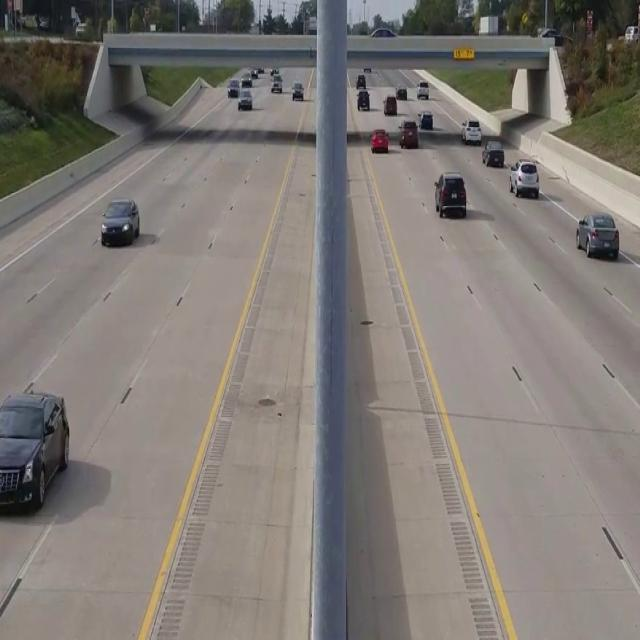car: (0, 387, 69, 513), (576, 212, 619, 260), (101, 198, 139, 246), (434, 172, 466, 218), (508, 158, 538, 197), (370, 128, 388, 152)
